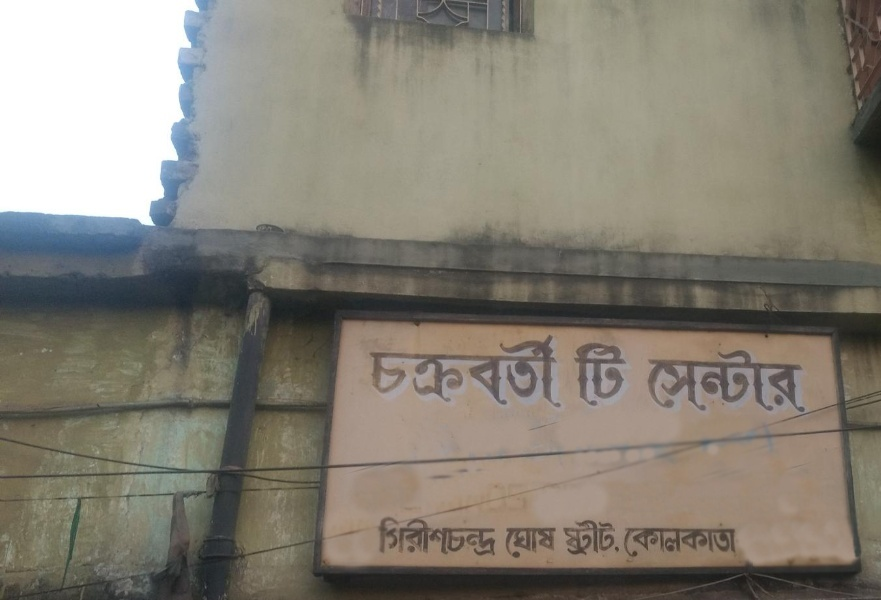text: (545, 333, 561, 410), (369, 333, 384, 410), (385, 333, 400, 410), (401, 333, 416, 410), (417, 333, 432, 410), (433, 333, 448, 410), (449, 333, 464, 410), (465, 333, 480, 410), (481, 333, 496, 410), (497, 333, 512, 410), (513, 333, 528, 410), (529, 333, 544, 410), (657, 345, 672, 418), (673, 345, 688, 418), (689, 345, 704, 418), (705, 345, 720, 418), (721, 345, 736, 418), (737, 345, 752, 418), (753, 345, 768, 418), (769, 345, 784, 418), (785, 345, 800, 418), (577, 342, 592, 406), (593, 342, 608, 406), (609, 342, 624, 406), (644, 345, 656, 418), (481, 515, 497, 559), (385, 515, 400, 559), (401, 515, 416, 559), (417, 515, 432, 559), (433, 515, 448, 559), (449, 515, 464, 559), (465, 515, 480, 559), (801, 345, 809, 418), (577, 520, 592, 556), (593, 520, 608, 556), (609, 520, 624, 556), (513, 524, 528, 558), (529, 524, 544, 558), (625, 528, 640, 558), (641, 528, 656, 558), (657, 528, 672, 558), (673, 528, 688, 558), (689, 528, 704, 558), (705, 528, 720, 558), (721, 528, 736, 558), (564, 520, 576, 556), (545, 524, 557, 558), (378, 515, 384, 559), (572, 342, 576, 406), (506, 524, 512, 558), (625, 342, 628, 406), (737, 528, 739, 558)
